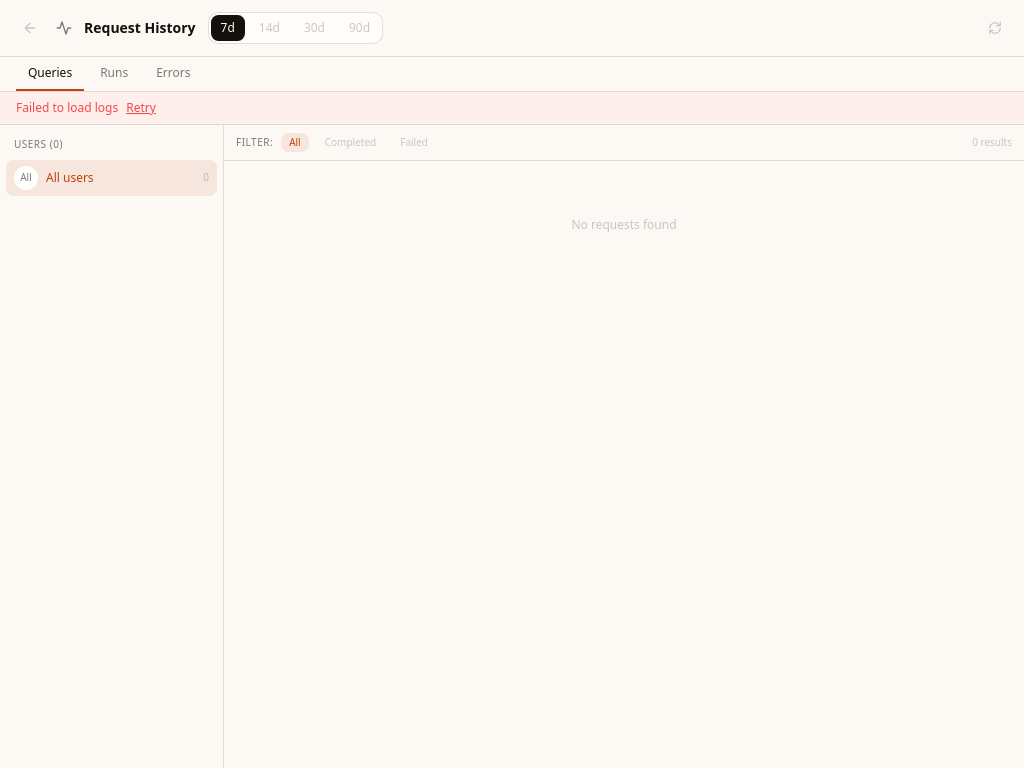
LogsScreen load-failure banner (L6) › Retry re-fetches the queries data
Click the button "Retry". click: (141, 108)
box: [126,100,156,116]
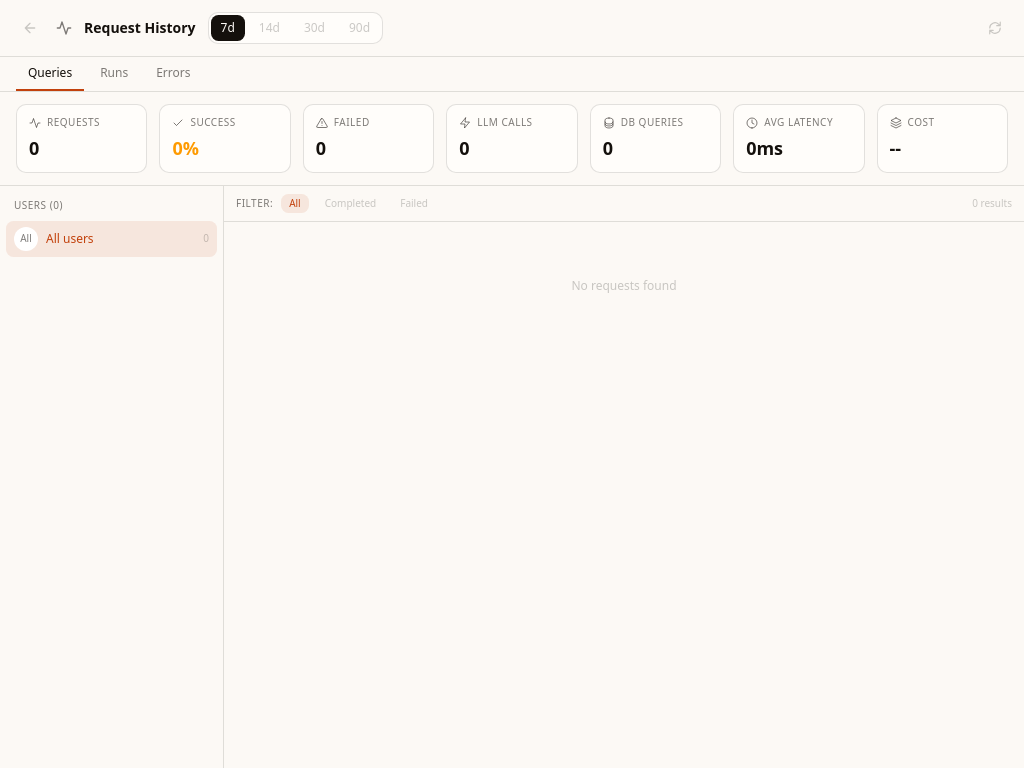
Result: the text "Failed to load logs" is gone
